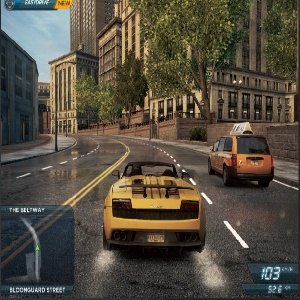building: (70, 4, 153, 138), (50, 46, 98, 132)
lamp post: (54, 57, 79, 152)
tree: (135, 1, 237, 139), (262, 4, 300, 87), (112, 56, 148, 132), (95, 77, 121, 131), (76, 74, 99, 130)
vehicle: (208, 119, 277, 187)
